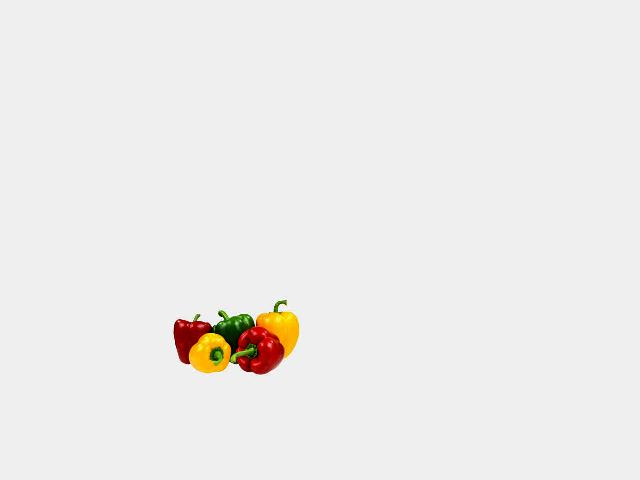bell_pepper: (170, 312, 211, 357)
